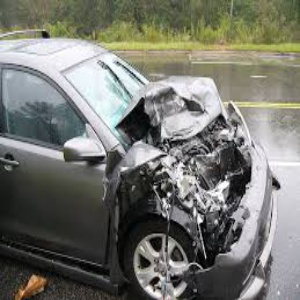bonnet: (140, 75, 231, 150)
bumper: (198, 206, 272, 300)
